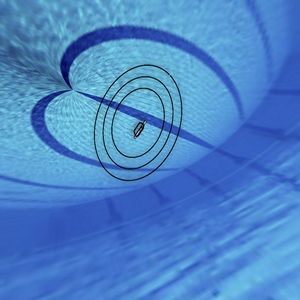circle: (86, 54, 189, 195)
submarine: (130, 115, 148, 145)
